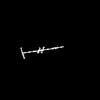treble_crochet: (21, 47, 61, 56)
